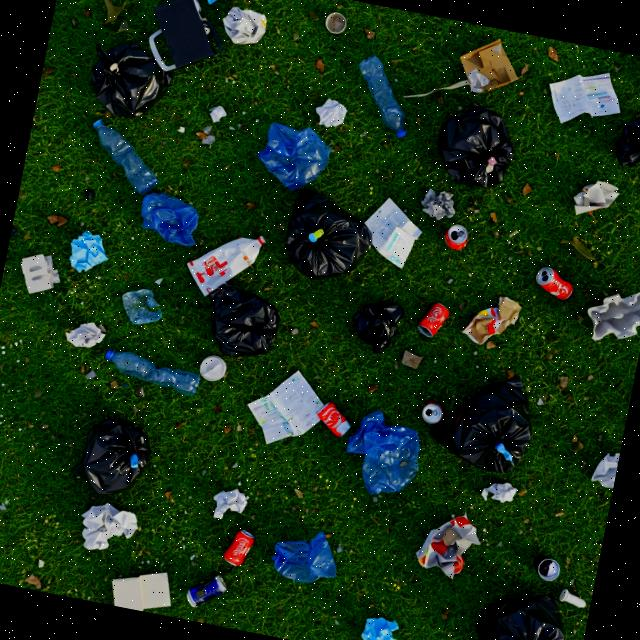aluminum: (183, 567, 231, 617), (312, 396, 358, 443), (218, 522, 260, 570), (532, 264, 577, 304), (414, 298, 454, 342), (530, 550, 570, 590), (438, 218, 474, 256), (416, 395, 450, 430)
paper: (238, 361, 334, 458), (541, 54, 632, 138), (458, 286, 528, 354), (107, 560, 180, 618), (76, 499, 142, 559), (566, 174, 624, 224), (218, 0, 273, 52), (14, 247, 66, 301), (64, 224, 114, 278), (59, 312, 114, 356), (586, 440, 622, 496), (208, 484, 254, 526), (418, 184, 461, 225), (475, 474, 524, 508), (353, 611, 405, 640), (313, 96, 352, 132)
plastic: (176, 218, 272, 310), (80, 117, 169, 201), (346, 51, 426, 140), (102, 348, 204, 395), (583, 271, 640, 352)
